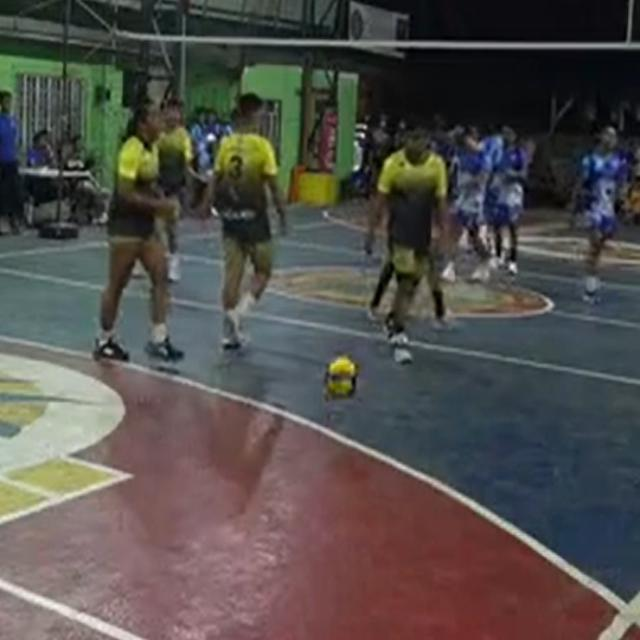volleyball: (322, 354, 359, 401)
